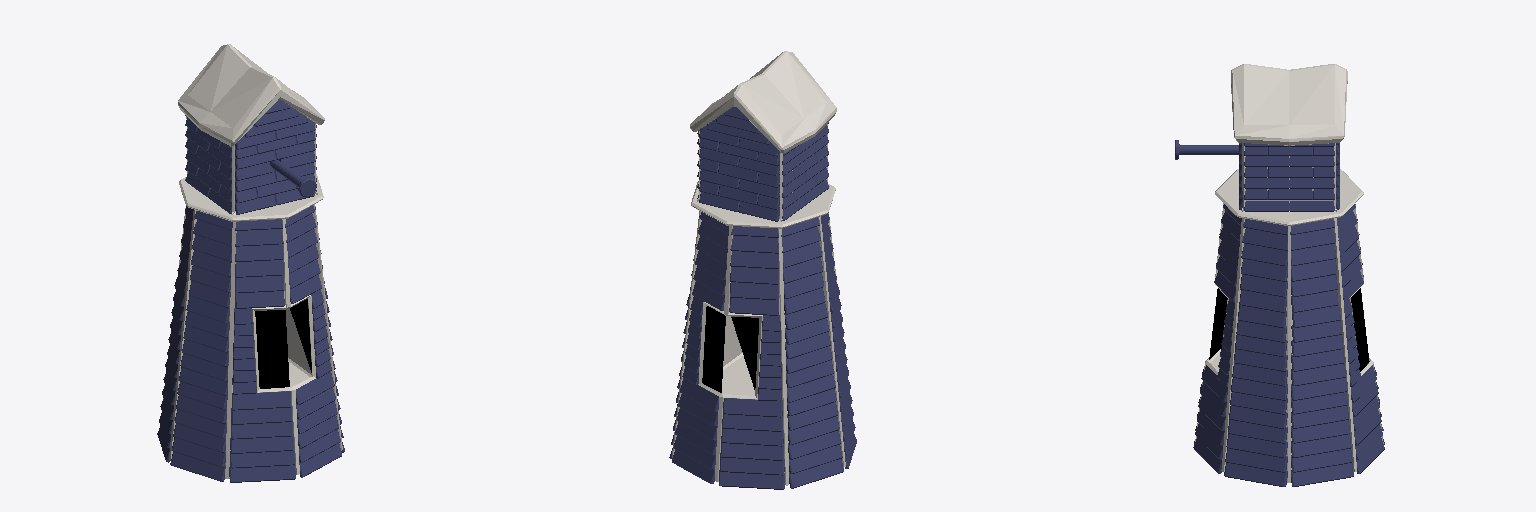
3 renders of one model, left to right at view 1: azimuth 30°, elevation 25°; view 2: azimuth 150°, elevation 25°; view 3: azimuth 270°, elevation 25°, orthographic.
Parts seen in each view (by area): view 1: WindmillBase; view 2: WindmillBase; view 3: WindmillBase.
Part boxes in pixels (bbox=[...]): WindmillBase: bbox=[157, 44, 344, 482]; WindmillBase: bbox=[669, 51, 856, 489]; WindmillBase: bbox=[1175, 64, 1384, 486].
Size of the model in its own units: 20.23 by 44.61 by 22.2.
1 materials, 1 textured.